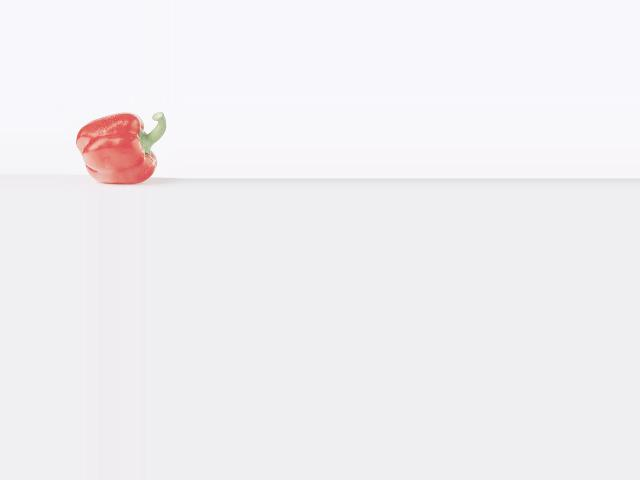bell_pepper: (71, 108, 174, 187)
